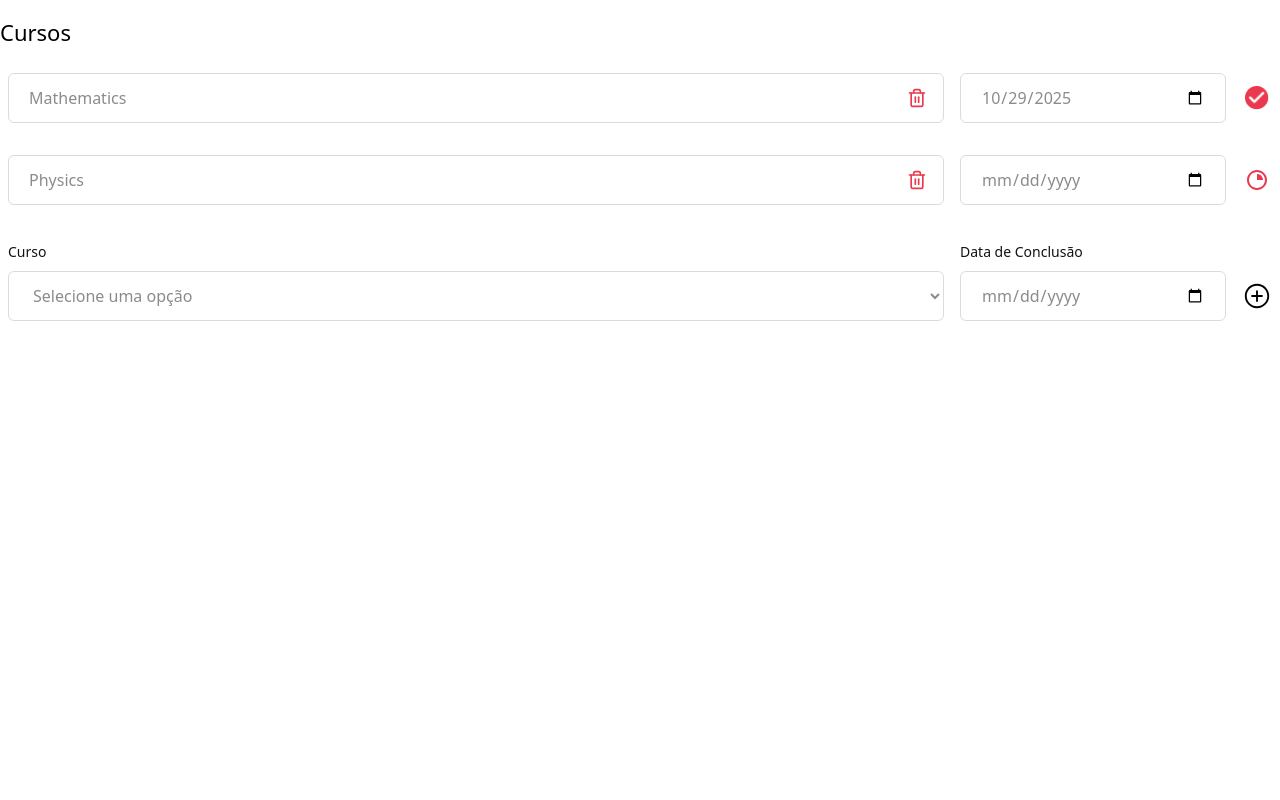
it: Componente StudentCoursesManager › Remover curso › deve abrir modal de confirmação
What coordinates should you click on to do the following:
click the 1st button named "remover curso"
I would click on:
 (917, 98)
Its box is [902, 83, 932, 113].
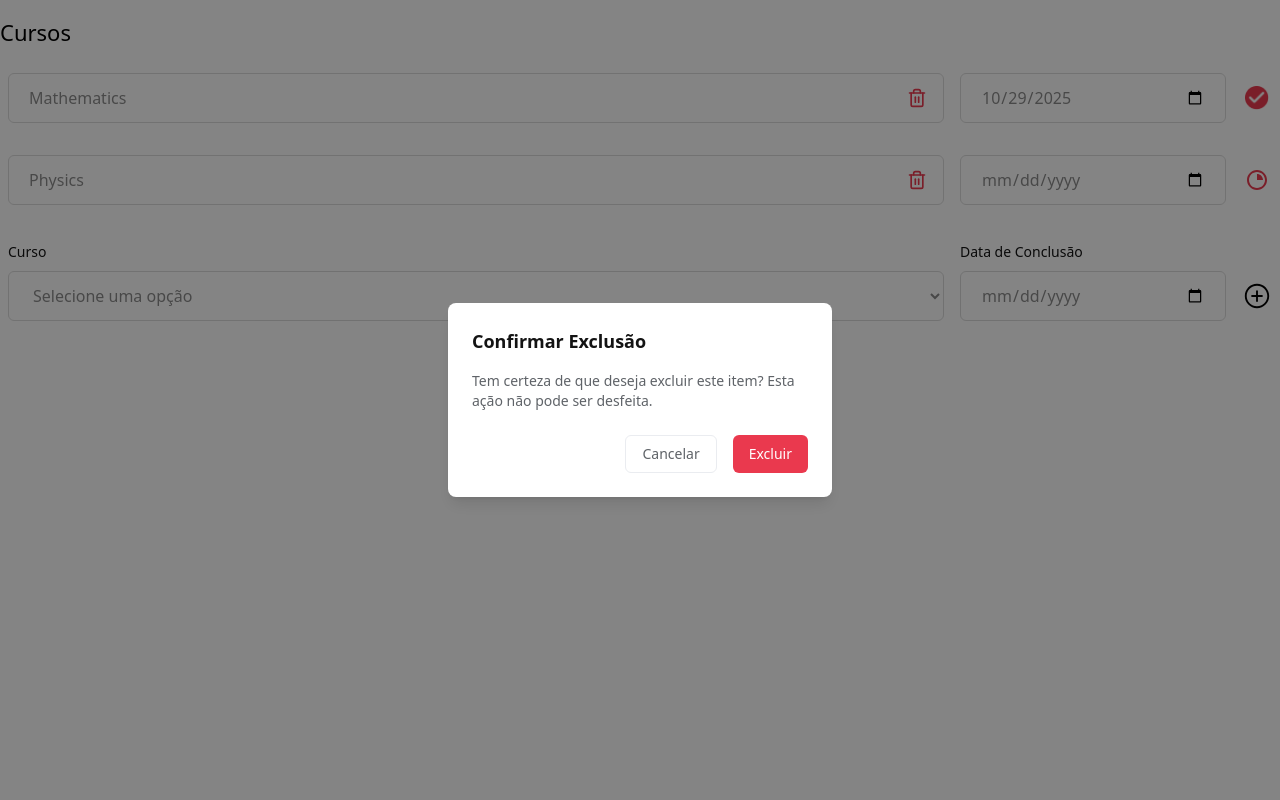
Result: the heading "Confirmar Exclusão" is shown at [472, 329, 646, 353]
